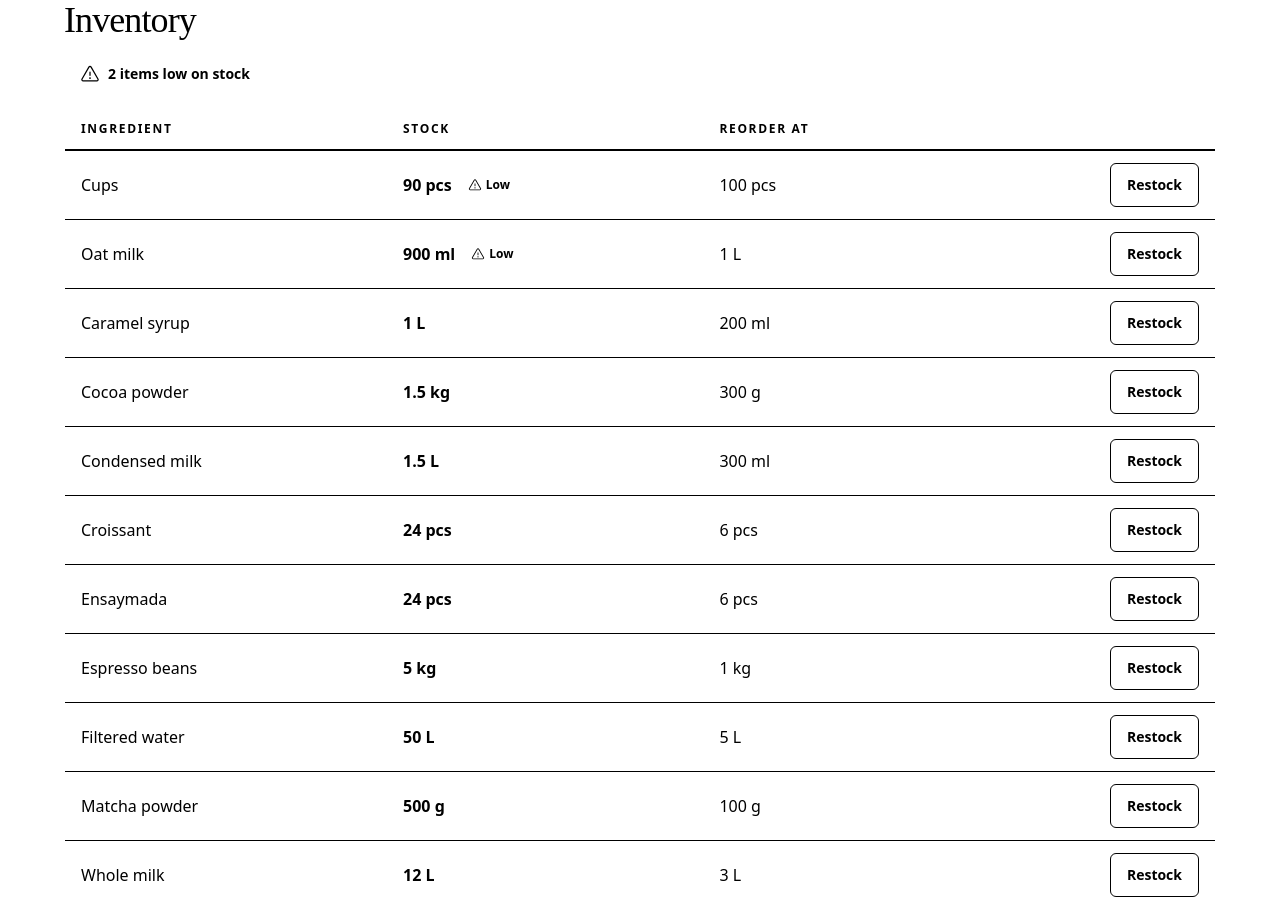
Test: Inventory › rejects 2.5 with an inline error and leaves stock alone
Click the button "Restock" in the row of "Oat milk" at (1154, 254), box [1110,232,1199,276]
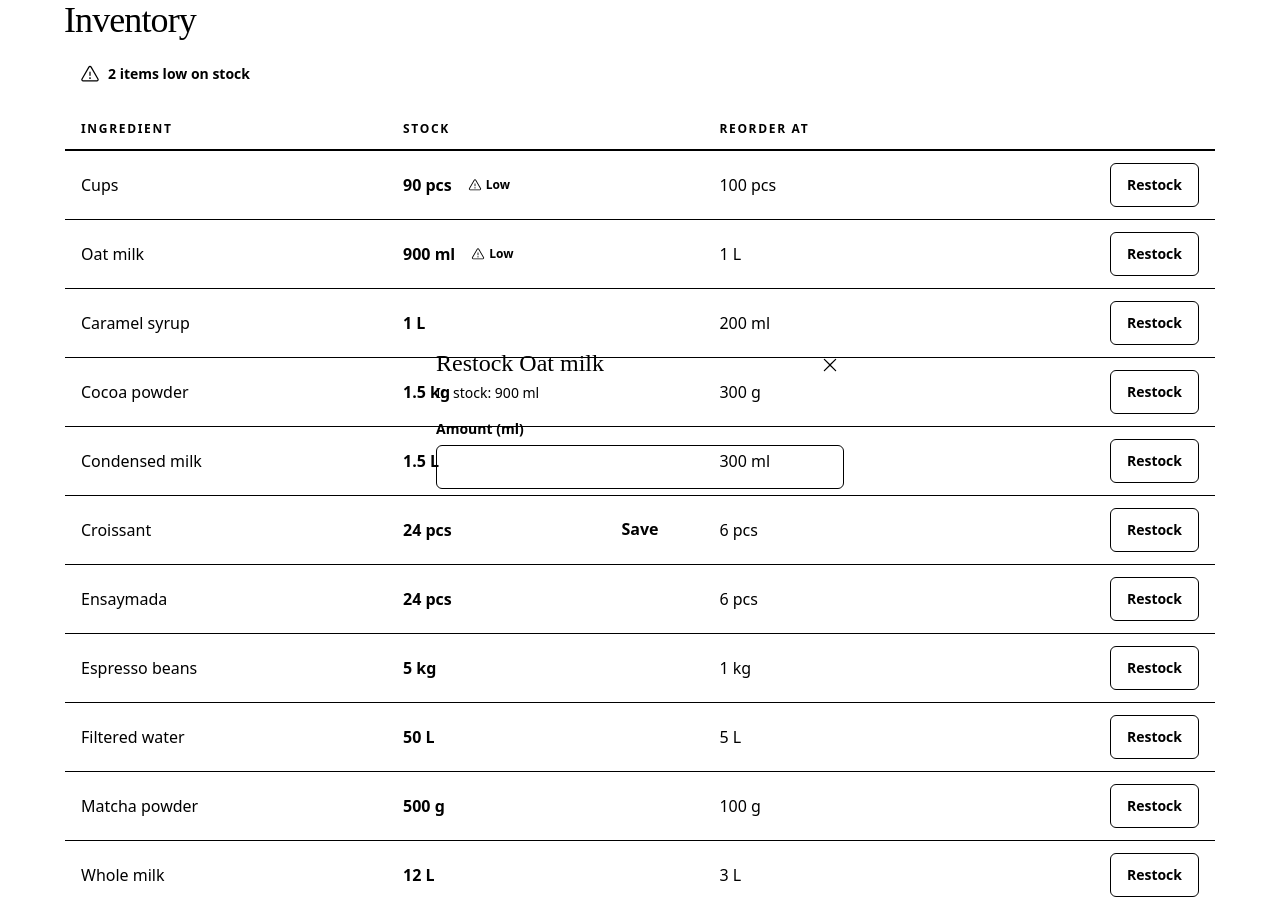
Type "2.5" into the field labelled "Amount (ml)" at (640, 467), box [436,445,844,489]
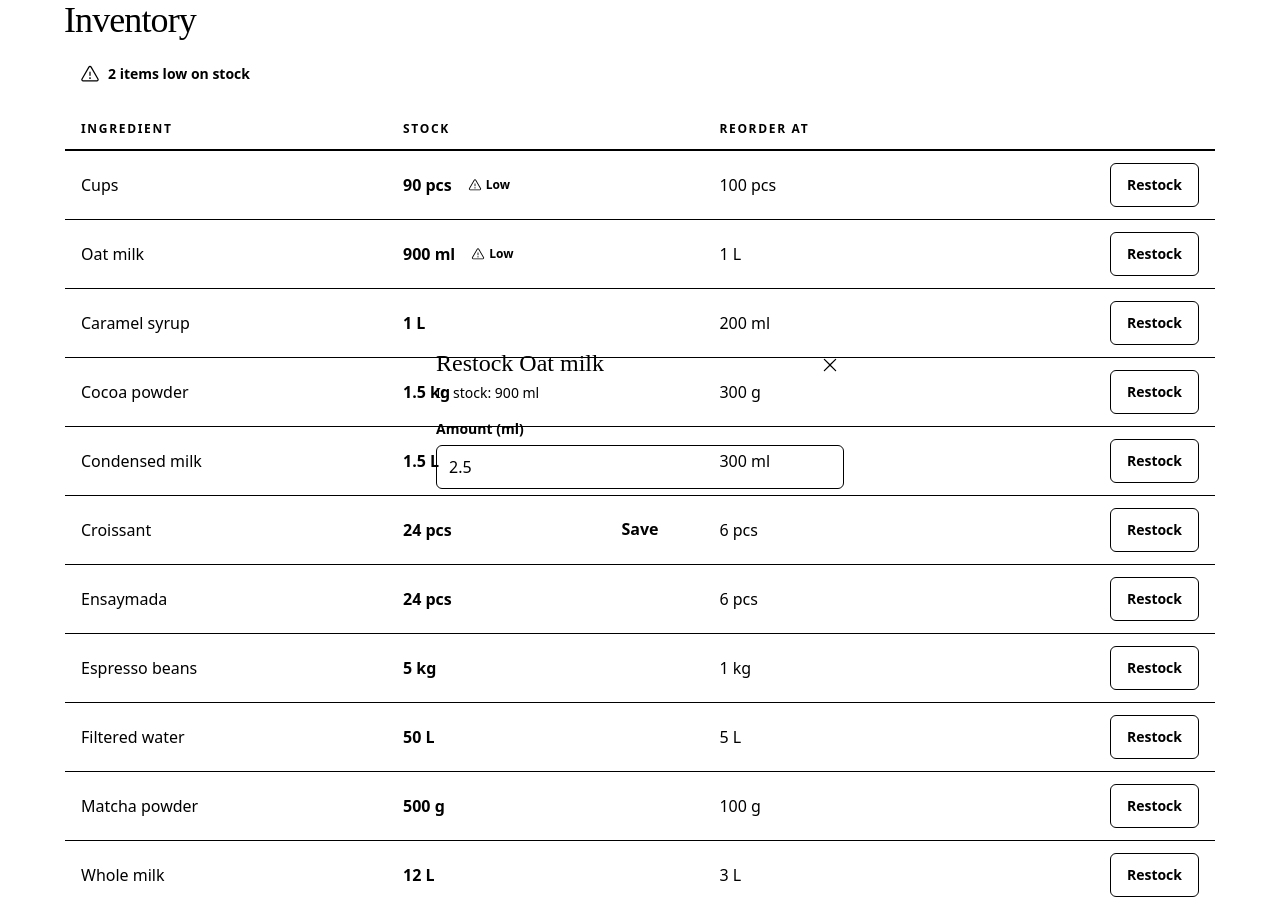
Click the button "Save" at (640, 529), box [436,505,844,553]
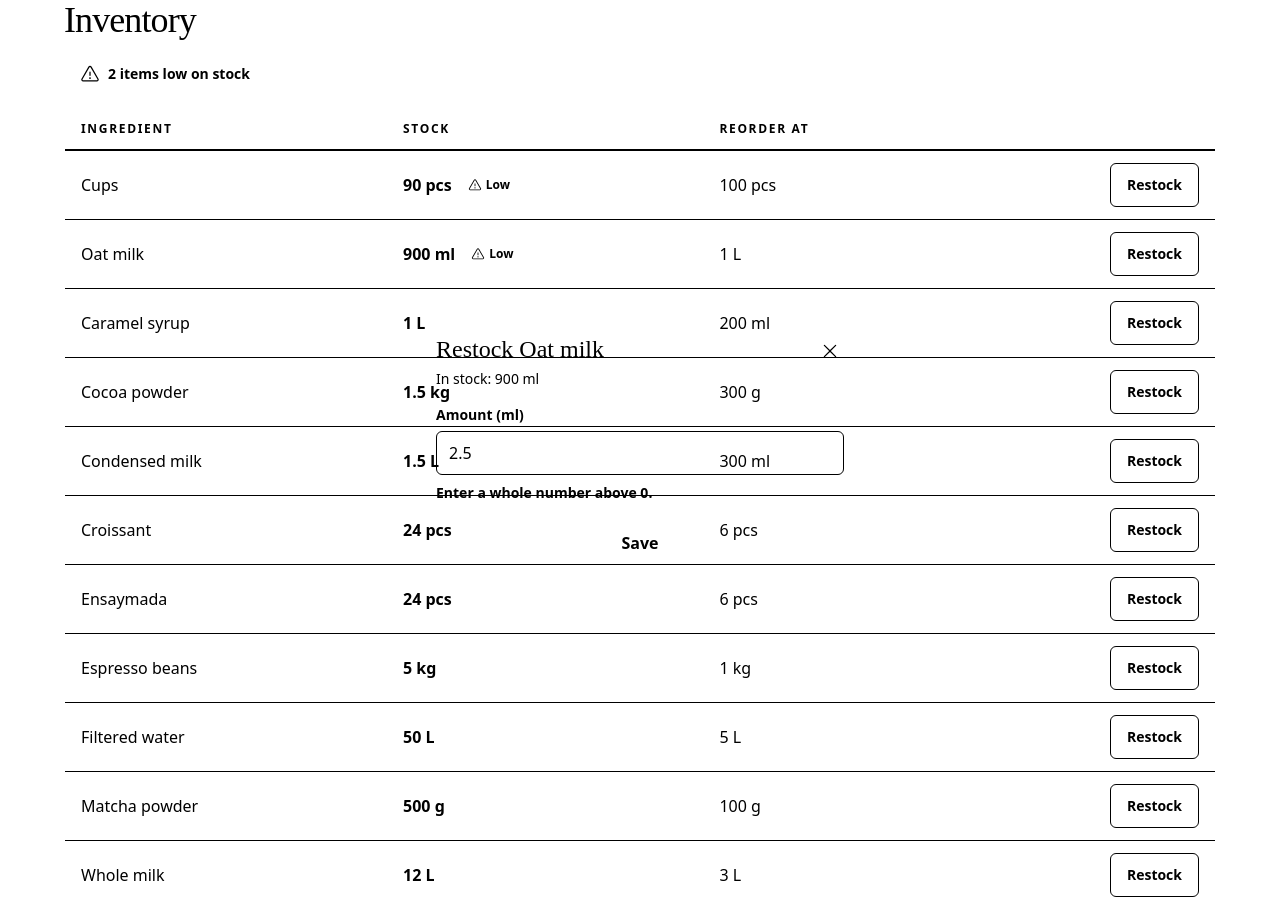
Check: the text "900 ml" is shown, box [403,242,455,266]
Check: the message shows "whole number", box [436,483,652,502]
